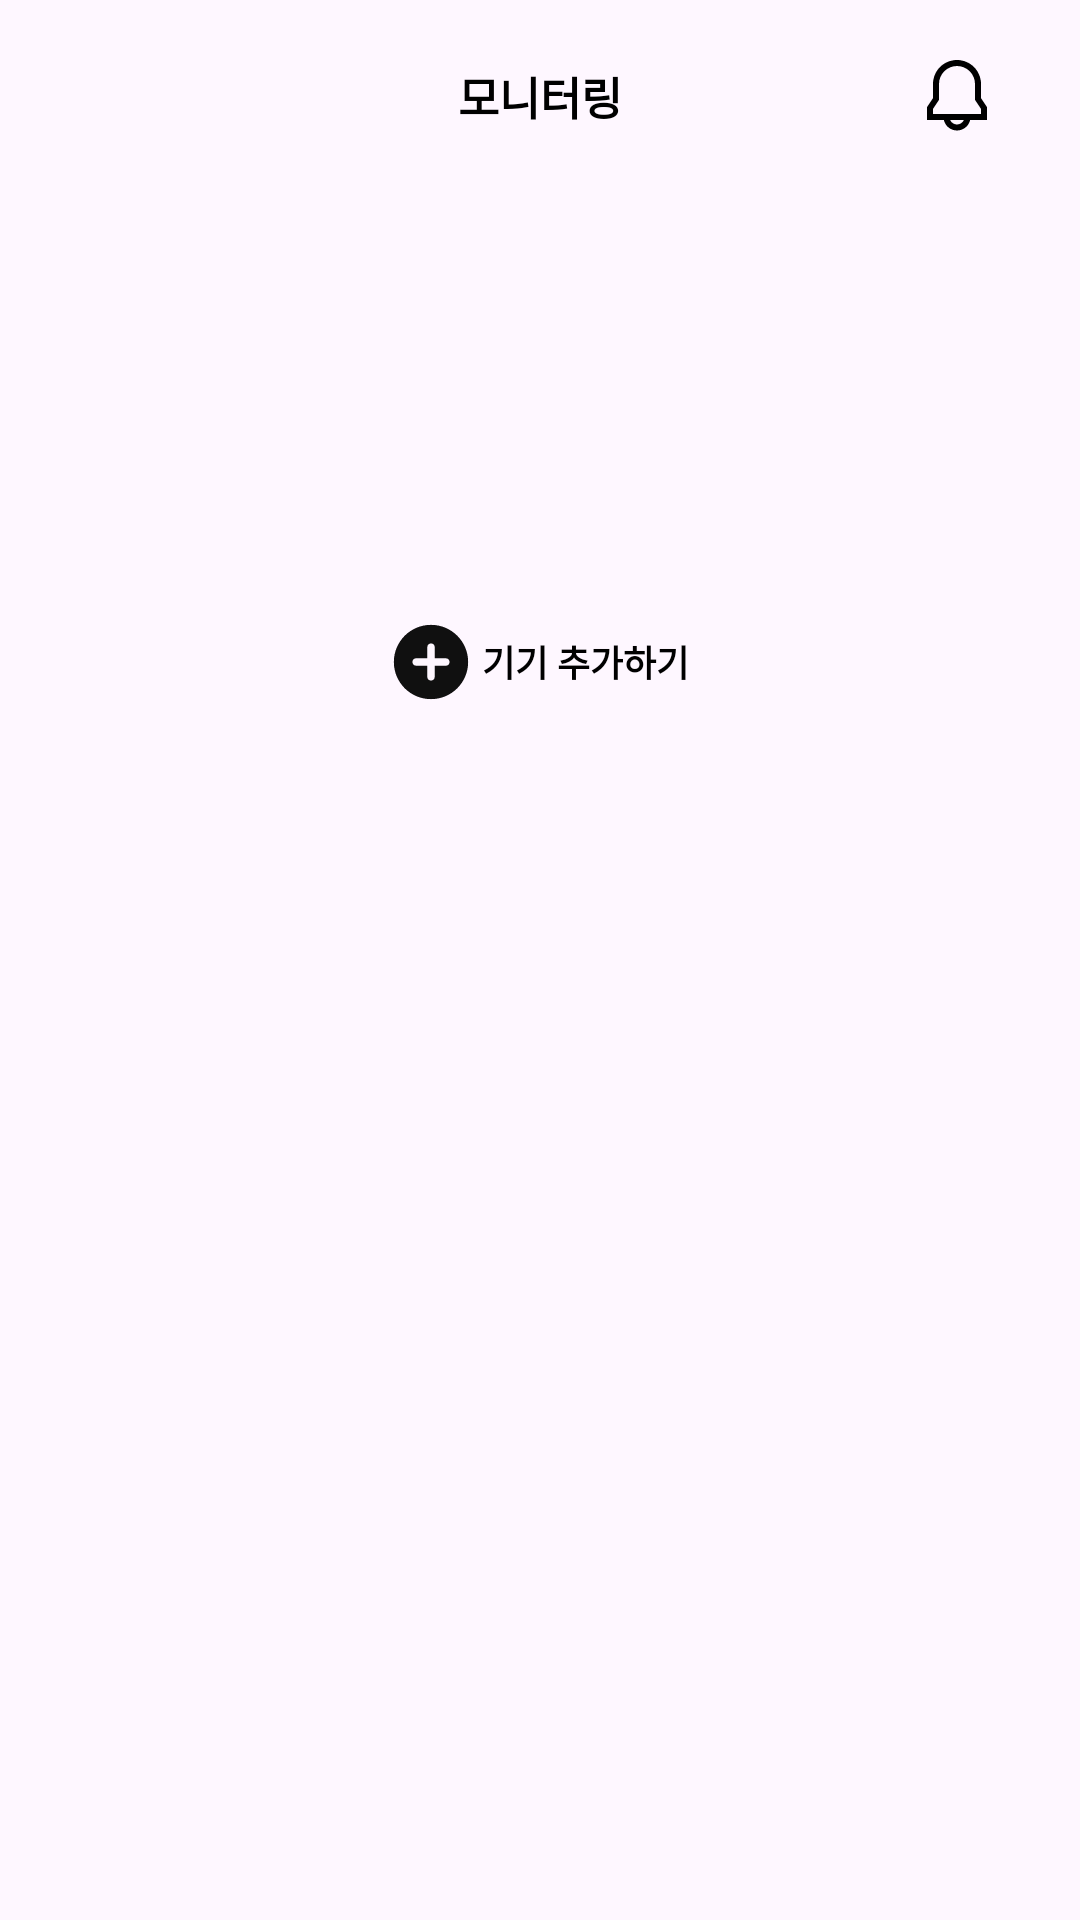

Icons on this 1080px x 1920px Android screen, each with its box as bbox=(x1, y1, x2, y2):
add: bbox=(393, 624, 468, 699)
bell: bbox=(927, 60, 987, 131)
